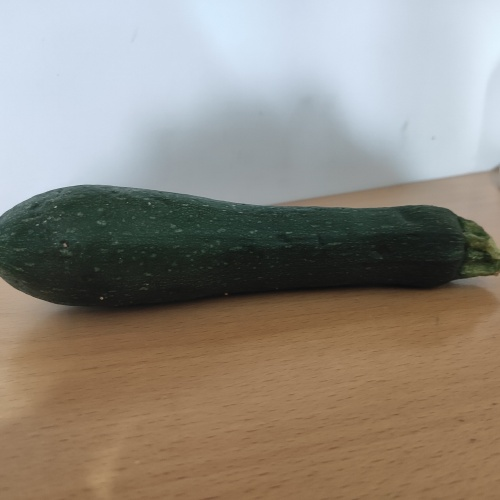zucchine: (15, 187, 492, 320)
